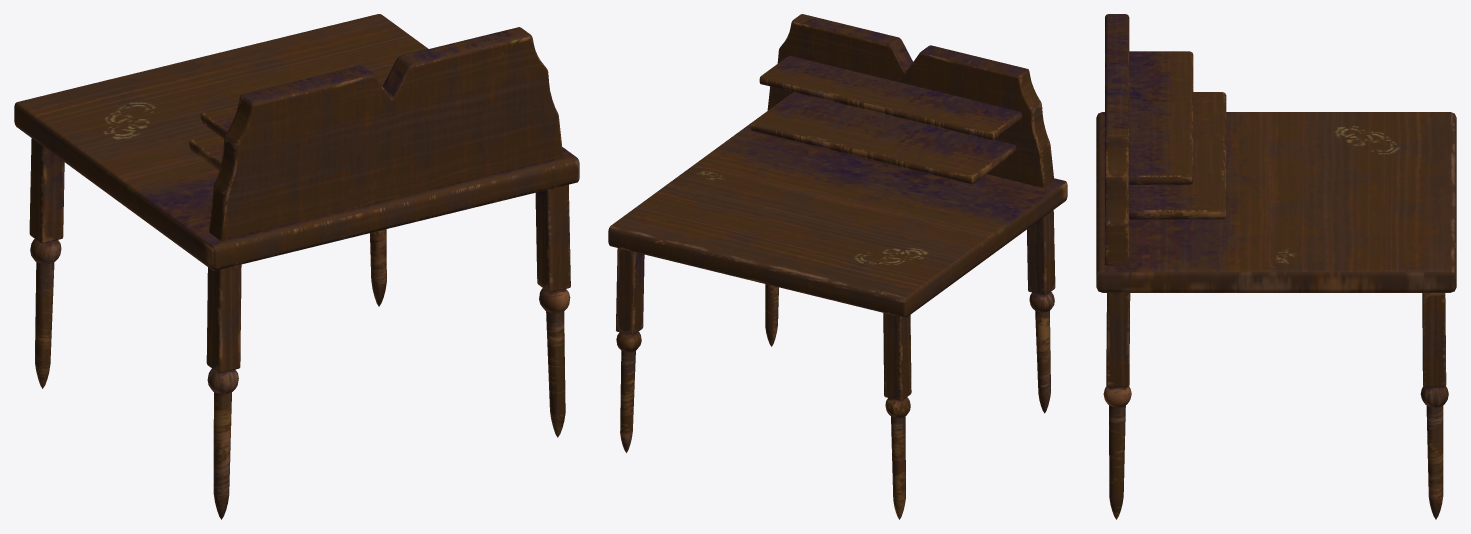
Rendered from ResearchTable.fbx.
3 renders of one model, left to right at view 1: azimuth 30°, elevation 25°; view 2: azimuth 150°, elevation 25°; view 3: azimuth 270°, elevation 25°, orthographic. The views are drawn at different scales.
Parts seen in each view (by area): view 1: Cube.001; view 2: Cube.001; view 3: Cube.001.
Part boxes in pixels (x1,y1,x2,y2): Cube.001: [14, 14, 579, 519]; Cube.001: [608, 14, 1067, 519]; Cube.001: [1096, 14, 1456, 519].
Bounding box in the file's own units: 89.93 × 85.31 × 96.94.
